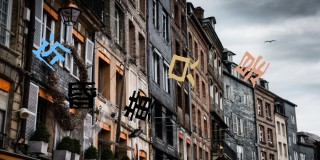只: (167, 53, 200, 85)
昏: (66, 78, 99, 111)
是: (233, 51, 270, 87)
近: (33, 32, 72, 71)
黄: (123, 90, 156, 122)
